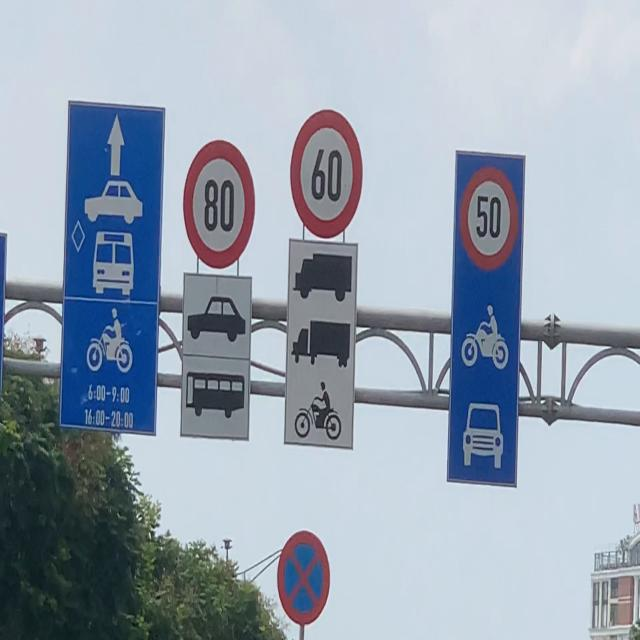Cam dung va do: (276, 529, 332, 629)
Toc do toi da: (179, 137, 259, 270), (288, 105, 367, 238), (458, 157, 518, 271)
